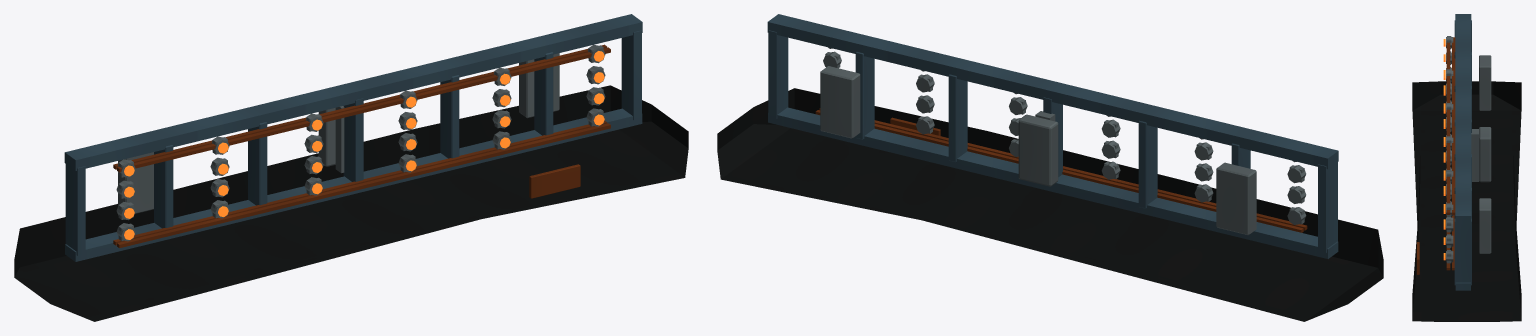
Rendered from place_memorial_array.glb.
3 views of the same model, side by side, from view 1: azimuth 30°, elevation 25°; view 2: azimuth 150°, elevation 25°; view 3: azimuth 270°, elevation 25° (orthographic). The views are drawn at different scales.
Parts seen in each view (by area): view 1: LOD0_Memorial_Recovered_Hull, LOD1_Memorial_Frame_Coat, LOD0_Memorial_Frame_Coat, LOD2_Memorial_Frame_Coat, LOD0_Memorial_Inscribed_Bronze, LOD0_Memorial_Service_Alloy, LOD2_Memorial_Inscribed_Bronze, LOD1_Memorial_Service_Alloy, LOD0_Memorial_Candle_Optic, LOD2_Memorial_Recovered_Hull, LOD2_Memorial_Service_Alloy; view 2: LOD0_Memorial_Recovered_Hull, LOD1_Memorial_Frame_Coat, LOD0_Memorial_Frame_Coat, LOD2_Memorial_Frame_Coat, LOD0_Memorial_Service_Alloy, LOD1_Memorial_Service_Alloy, LOD2_Memorial_Recovered_Hull, LOD2_Memorial_Inscribed_Bronze, LOD0_Memorial_Inscribed_Bronze; view 3: LOD0_Memorial_Recovered_Hull, LOD0_Memorial_Frame_Coat, LOD0_Memorial_Service_Alloy, LOD1_Memorial_Frame_Coat, LOD2_Memorial_Frame_Coat, LOD1_Memorial_Service_Alloy, LOD0_Memorial_Inscribed_Bronze, LOD2_Memorial_Inscribed_Bronze, LOD2_Memorial_Recovered_Hull, LOD0_Memorial_Candle_Optic, LOD2_Memorial_Service_Alloy.
Part boxes in pixels (bbox=[...]): LOD0_Memorial_Recovered_Hull: bbox=[14, 85, 688, 321]; LOD1_Memorial_Frame_Coat: bbox=[65, 15, 641, 260]; LOD0_Memorial_Frame_Coat: bbox=[66, 15, 640, 259]; LOD2_Memorial_Frame_Coat: bbox=[64, 14, 642, 261]; LOD0_Memorial_Inscribed_Bronze: bbox=[117, 47, 610, 248]; LOD0_Memorial_Service_Alloy: bbox=[116, 44, 605, 241]; LOD2_Memorial_Inscribed_Bronze: bbox=[113, 44, 607, 245]; LOD1_Memorial_Service_Alloy: bbox=[118, 45, 603, 240]; LOD0_Memorial_Candle_Optic: bbox=[124, 51, 604, 239]; LOD2_Memorial_Recovered_Hull: bbox=[37, 132, 477, 320]; LOD2_Memorial_Service_Alloy: bbox=[335, 106, 344, 173]; LOD0_Memorial_Recovered_Hull: bbox=[717, 88, 1383, 321]; LOD1_Memorial_Frame_Coat: bbox=[769, 15, 1337, 257]; LOD0_Memorial_Frame_Coat: bbox=[769, 15, 1337, 256]; LOD2_Memorial_Frame_Coat: bbox=[767, 14, 1338, 258]; LOD0_Memorial_Service_Alloy: bbox=[820, 47, 1306, 233]; LOD1_Memorial_Service_Alloy: bbox=[820, 52, 1304, 235]; LOD2_Memorial_Recovered_Hull: bbox=[926, 135, 1357, 320]; LOD2_Memorial_Inscribed_Bronze: bbox=[815, 110, 1303, 232]; LOD0_Memorial_Inscribed_Bronze: bbox=[819, 108, 1307, 230]; LOD0_Memorial_Recovered_Hull: bbox=[1412, 81, 1521, 321]; LOD0_Memorial_Frame_Coat: bbox=[1455, 14, 1470, 289]; LOD0_Memorial_Service_Alloy: bbox=[1446, 37, 1491, 262]; LOD1_Memorial_Frame_Coat: bbox=[1454, 14, 1471, 289]; LOD2_Memorial_Frame_Coat: bbox=[1454, 14, 1471, 290]; LOD1_Memorial_Service_Alloy: bbox=[1447, 36, 1491, 263]; LOD0_Memorial_Inscribed_Bronze: bbox=[1416, 42, 1450, 274]; LOD2_Memorial_Inscribed_Bronze: bbox=[1452, 37, 1455, 270]; LOD2_Memorial_Recovered_Hull: bbox=[1412, 111, 1521, 226]; LOD0_Memorial_Candle_Optic: bbox=[1443, 39, 1445, 260]; LOD2_Memorial_Service_Alloy: bbox=[1471, 129, 1478, 181].
Bounding box in the file's own units: 14.8 × 3.05 × 3.
Materials: 5 (5 with a texture image).
